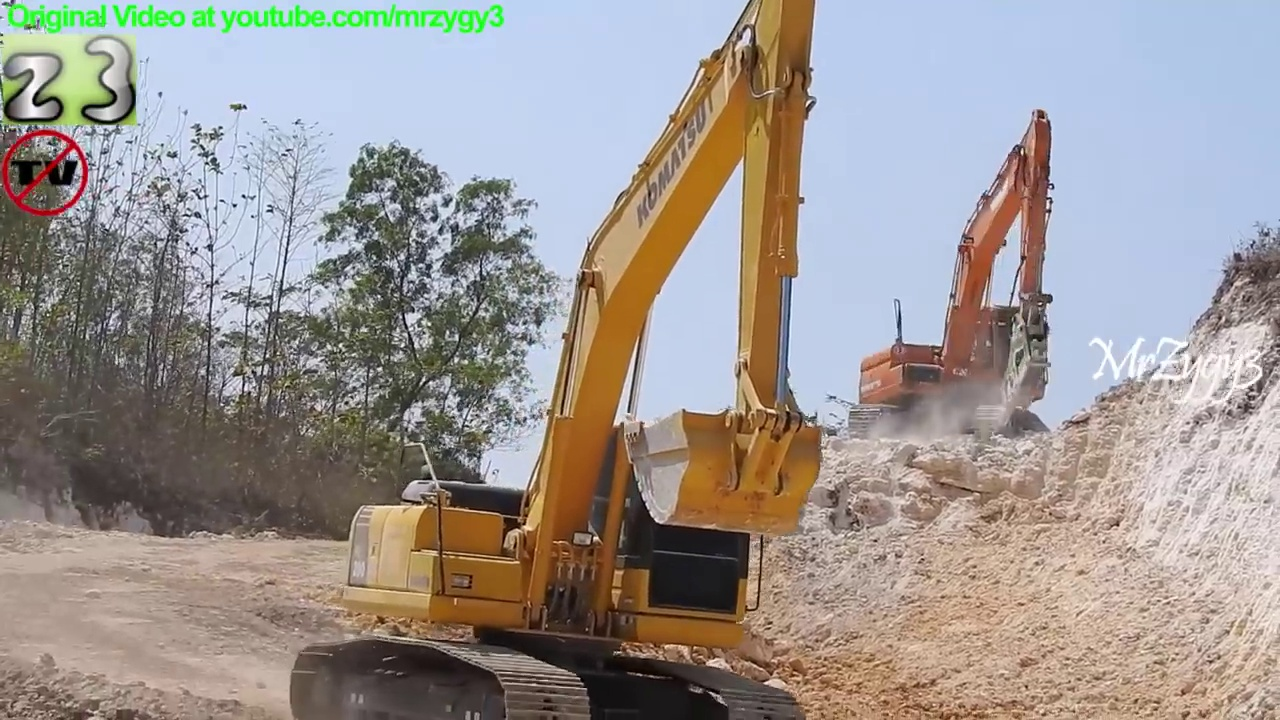excavator: (282, 1, 831, 720), (847, 106, 1061, 450)
